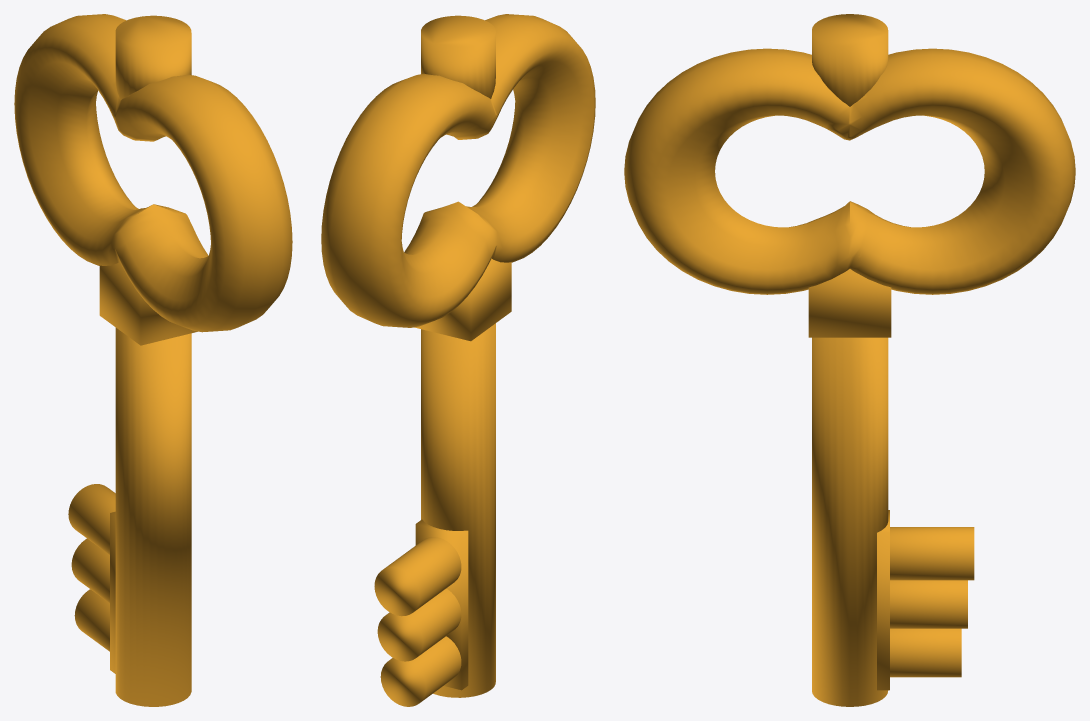
File: key.fbx
3 views of the same model, side by side, from view 1: azimuth 30°, elevation 25°; view 2: azimuth 150°, elevation 25°; view 3: azimuth 270°, elevation 25° (orthographic).
Parts seen in each view (by area): view 1: Cylinder.001; view 2: Cylinder.001; view 3: Cylinder.001.
Boxes of the visible parts, box(x1,y1,x2,y2) form: Cylinder.001: box(14, 14, 292, 706); Cylinder.001: box(321, 14, 595, 706); Cylinder.001: box(624, 14, 1075, 706).
Bounding box in the file's own units: 70.49 × 573 × 355.
